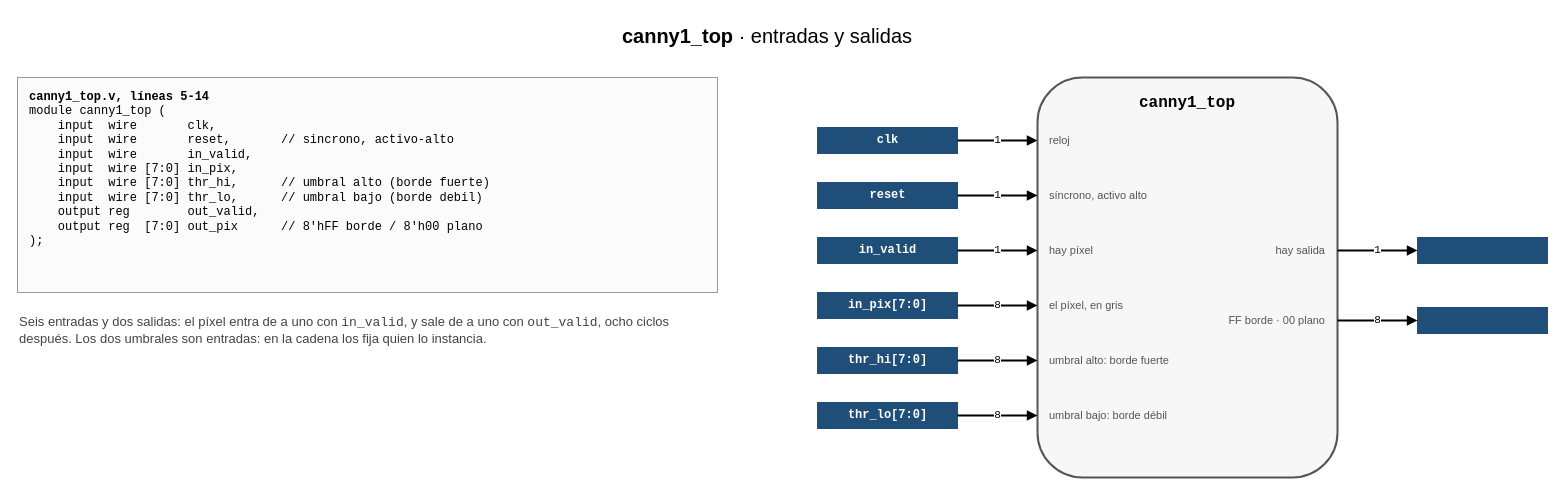
The diagram is 1565 pixels wide and 495 high, and some of its shapes have lost their labels. The shapes that lost their labels are listed below. From the top down, each one's centre as x and y in pixels, then its label:
the point at 1482,250: out_valid
the point at 1482,320: out_pix[7:0]
